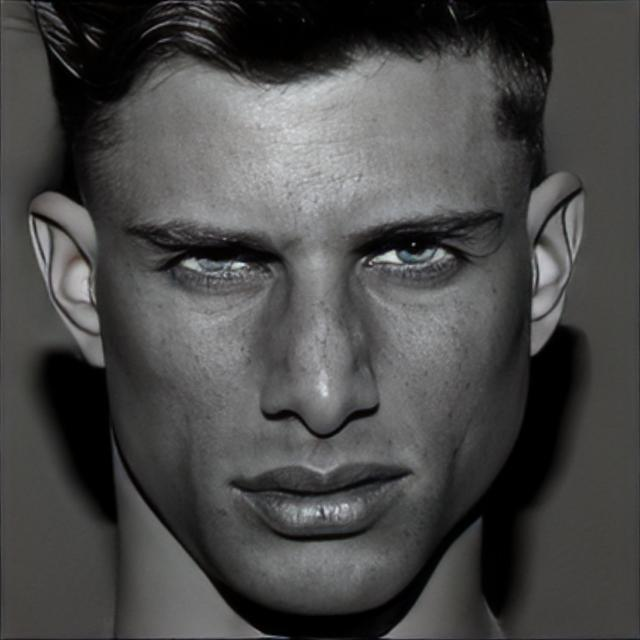anger: (98, 38, 526, 617)
